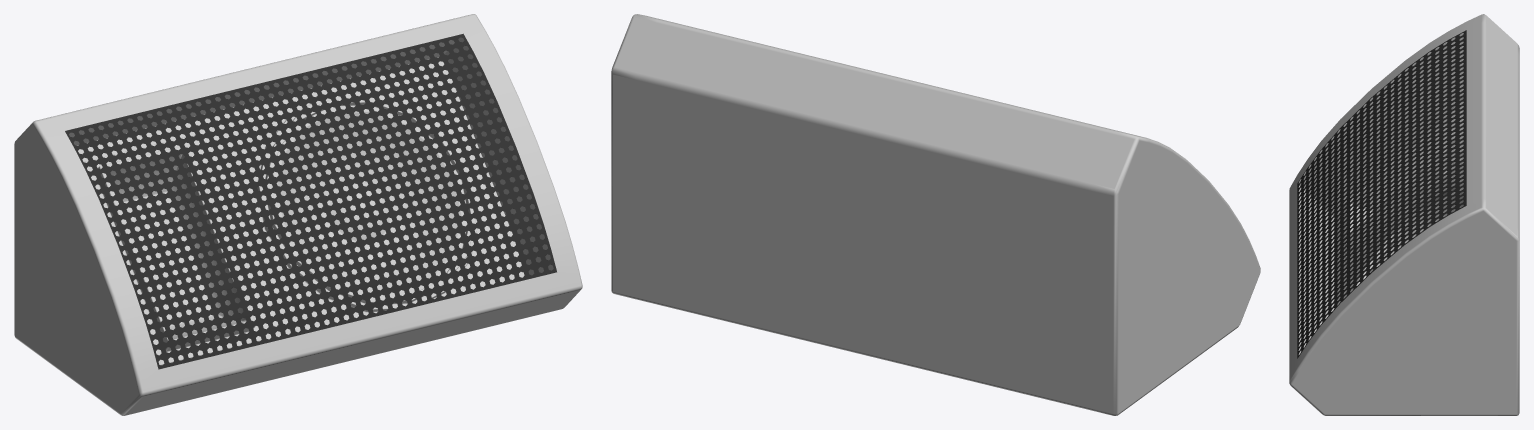
The model's file is MonitorSpeaker_L.fbx.
3 views of the same model, side by side, from view 1: azimuth 30°, elevation 25°; view 2: azimuth 150°, elevation 25°; view 3: azimuth 270°, elevation 25° (orthographic). The views are drawn at different scales.
Parts seen in each view (by area): view 1: MonitorSpeaker_L; view 2: MonitorSpeaker_L; view 3: MonitorSpeaker_L.
Part boxes in pixels (<box>): MonitorSpeaker_L: <box>14,14,582,415</box>; MonitorSpeaker_L: <box>611,14,1260,415</box>; MonitorSpeaker_L: <box>1289,14,1519,415</box>.
Size of the model in its own units: 0.7158 by 0.3563 by 0.3563.
